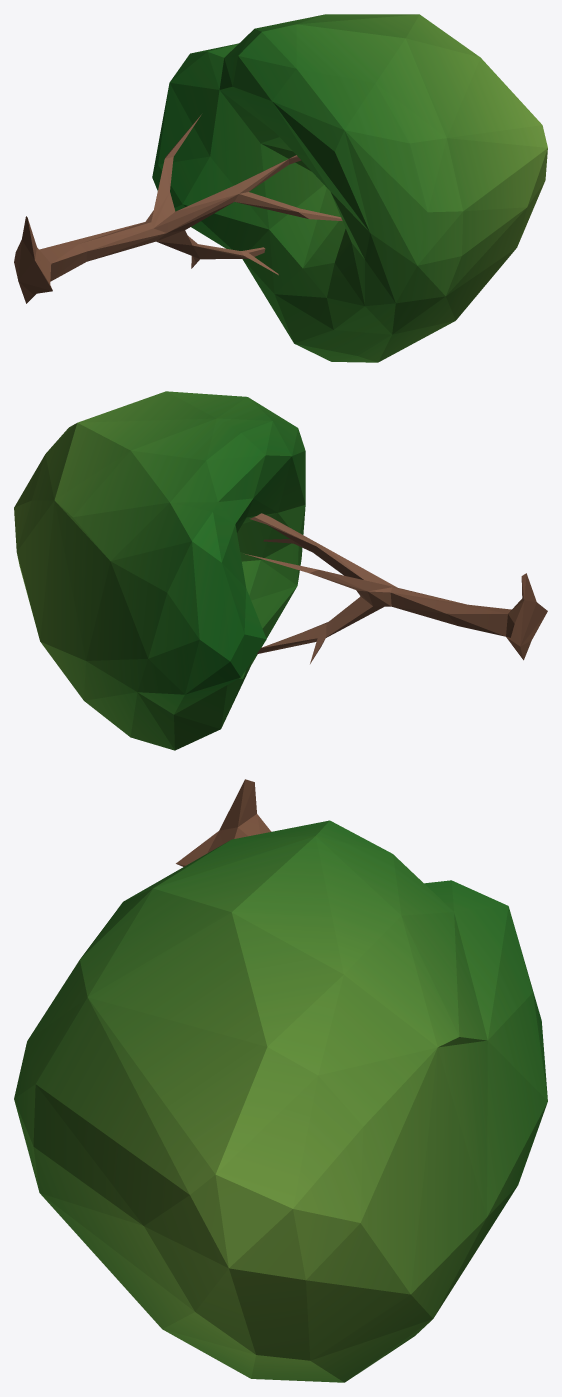
Rendered from Tree1Broke.fbx.
3 views of the same model, one above another, from view 1: azimuth 30°, elevation 25°; view 2: azimuth 150°, elevation 25°; view 3: azimuth 270°, elevation 25° (orthographic). The views are drawn at different scales.
Parts seen in each view (by area): view 1: Tree_04_LOD1_4_fracturepart17_2, Tree_04_LOD1_4_fracturepart14_3, Tree_04_LOD1_4_fracturepart11, Tree_04_LOD1_4_fracturepart3_2, Tree_04_LOD1_4_fracturepart15_3, Tree_04_LOD1_4_fracturepart8, Tree_04_LOD1_4_fracturepart2_2, Tree_04_LOD1_4_fracturepart20_2, Tree_04_LOD1_4_fracturepart17, Tree_04_LOD1_4_fracturepart3, Tree_04_LOD1_4_fracturepart16_2, Tree_04_LOD1_4_fracturepart18 (+7 smaller); view 2: Tree_04_LOD1_4_fracturepart6, Tree_04_LOD1_4_fracturepart3_2, Tree_04_LOD1_4_fracturepart5, Tree_04_LOD1_4_fracturepart15_3, Tree_04_LOD1_4_fracturepart7_2, Tree_04_LOD1_4_fracturepart17_2, Tree_04_LOD1_4_fracturepart17, Tree_04_LOD1_4_fracturepart3, Tree_04_LOD1_4_fracturepart14_3, Tree_04_LOD1_4_fracturepart2_2, Tree_04_LOD1_4_fracturepart16_2, Tree_04_LOD1_4_fracturepart20_2 (+2 smaller); view 3: Tree_04_LOD1_4_fracturepart16_2, Tree_04_LOD1_4_fracturepart6, Tree_04_LOD1_4_fracturepart7_2, Tree_04_LOD1_4_fracturepart20_2, Tree_04_LOD1_4_fracturepart5, Tree_04_LOD1_4_fracturepart10, Tree_04_LOD1_4_fracturepart19, Tree_04_LOD1_4_fracturepart18, Tree_04_LOD1_4_fracturepart13_2, Tree_04_LOD1_4_fracturepart3_2, Tree_04_LOD1_4_fracturepart4_3, Tree_04_LOD1_4_fracturepart8 (+6 smaller).
Part boxes in pixels (<box>): Tree_04_LOD1_4_fracturepart17_2: <box>152,68,317,220</box>; Tree_04_LOD1_4_fracturepart14_3: <box>283,63,409,233</box>; Tree_04_LOD1_4_fracturepart11: <box>349,225,493,334</box>; Tree_04_LOD1_4_fracturepart3_2: <box>223,18,354,138</box>; Tree_04_LOD1_4_fracturepart15_3: <box>191,178,341,361</box>; Tree_04_LOD1_4_fracturepart8: <box>363,131,475,238</box>; Tree_04_LOD1_4_fracturepart2_2: <box>302,221,473,362</box>; Tree_04_LOD1_4_fracturepart20_2: <box>334,15,463,88</box>; Tree_04_LOD1_4_fracturepart17: <box>114,114,301,261</box>; Tree_04_LOD1_4_fracturepart3: <box>14,216,152,303</box>; Tree_04_LOD1_4_fracturepart16_2: <box>370,14,542,127</box>; Tree_04_LOD1_4_fracturepart18: <box>385,80,480,143</box>; Tree_04_LOD1_4_fracturepart6: <box>51,428,230,677</box>; Tree_04_LOD1_4_fracturepart3_2: <box>160,402,297,513</box>; Tree_04_LOD1_4_fracturepart5: <box>36,589,177,750</box>; Tree_04_LOD1_4_fracturepart15_3: <box>109,642,248,748</box>; Tree_04_LOD1_4_fracturepart7_2: <box>14,480,72,625</box>; Tree_04_LOD1_4_fracturepart17_2: <box>188,502,267,681</box>; Tree_04_LOD1_4_fracturepart17: <box>245,514,439,649</box>; Tree_04_LOD1_4_fracturepart3: <box>394,573,547,660</box>; Tree_04_LOD1_4_fracturepart14_3: <box>232,396,305,543</box>; Tree_04_LOD1_4_fracturepart2_2: <box>237,540,289,694</box>; Tree_04_LOD1_4_fracturepart16_2: <box>30,409,117,491</box>; Tree_04_LOD1_4_fracturepart20_2: <box>111,391,236,434</box>; Tree_04_LOD1_4_fracturepart16_2: <box>181,938,417,1181</box>; Tree_04_LOD1_4_fracturepart6: <box>346,865,547,1150</box>; Tree_04_LOD1_4_fracturepart7_2: <box>230,1051,465,1302</box>; Tree_04_LOD1_4_fracturepart20_2: <box>158,870,365,1020</box>; Tree_04_LOD1_4_fracturepart5: <box>243,1140,513,1382</box>; Tree_04_LOD1_4_fracturepart10: <box>173,1210,364,1370</box>; Tree_04_LOD1_4_fracturepart19: <box>114,1216,275,1375</box>; Tree_04_LOD1_4_fracturepart18: <box>86,899,193,1061</box>; Tree_04_LOD1_4_fracturepart13_2: <box>54,1011,126,1212</box>; Tree_04_LOD1_4_fracturepart3_2: <box>181,820,404,890</box>; Tree_04_LOD1_4_fracturepart4_3: <box>117,1118,244,1218</box>; Tree_04_LOD1_4_fracturepart8: <box>20,951,95,1129</box>.
Bounding box in the file's own units: 720 × 456 × 442.
Materials: 1 (1 with a texture image).
